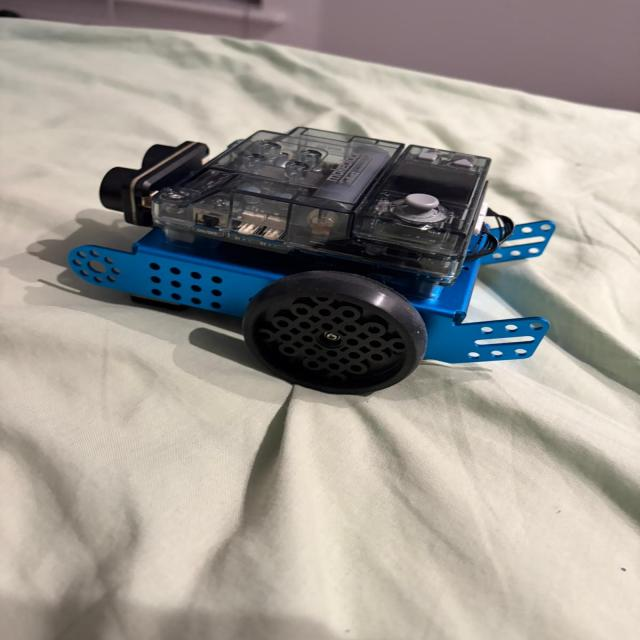mbot-detection: (57, 122, 561, 399)
